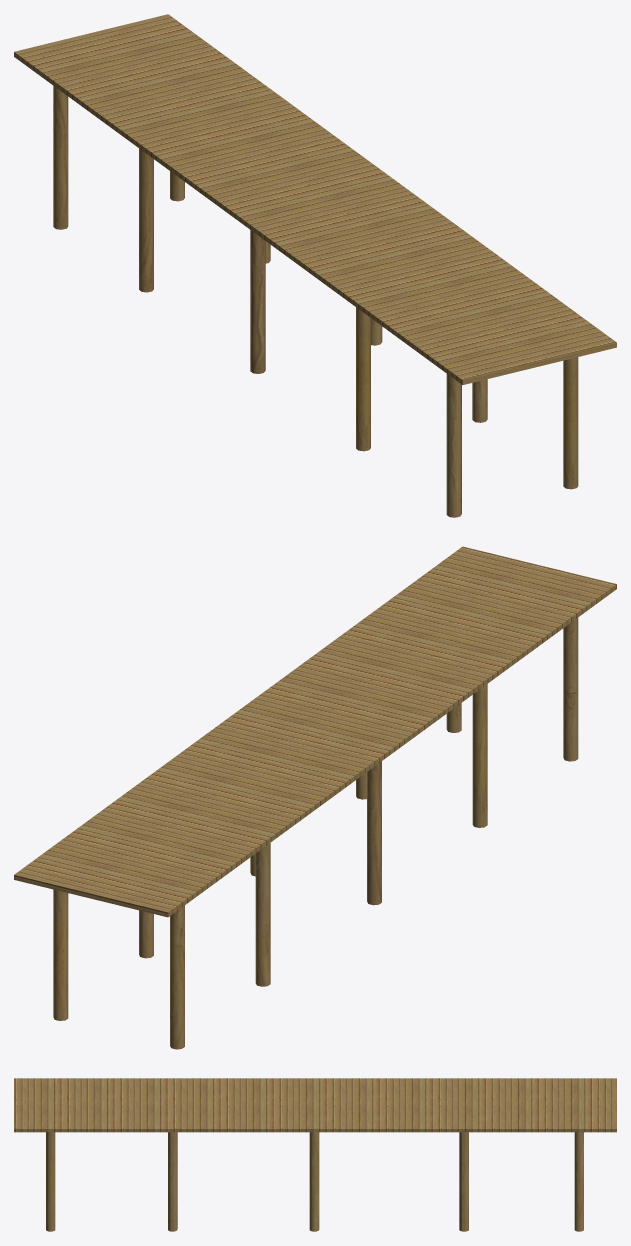
The model's file is jy_qiao03.FBX.
3 views of the same model, one above another, from view 1: azimuth 30°, elevation 25°; view 2: azimuth 150°, elevation 25°; view 3: azimuth 270°, elevation 25° (orthographic). The views are drawn at different scales.
Parts seen in each view (by area): view 1: jy_qiao03; view 2: jy_qiao03; view 3: jy_qiao03.
Boxes of the visible parts, bbox=[...] form: jy_qiao03: bbox=[14, 14, 616, 517]; jy_qiao03: bbox=[14, 546, 616, 1049]; jy_qiao03: bbox=[14, 1078, 616, 1231].
Bounding box in the file's own units: 250 × 246 × 1261.
Materials: 1 (1 with a texture image).
